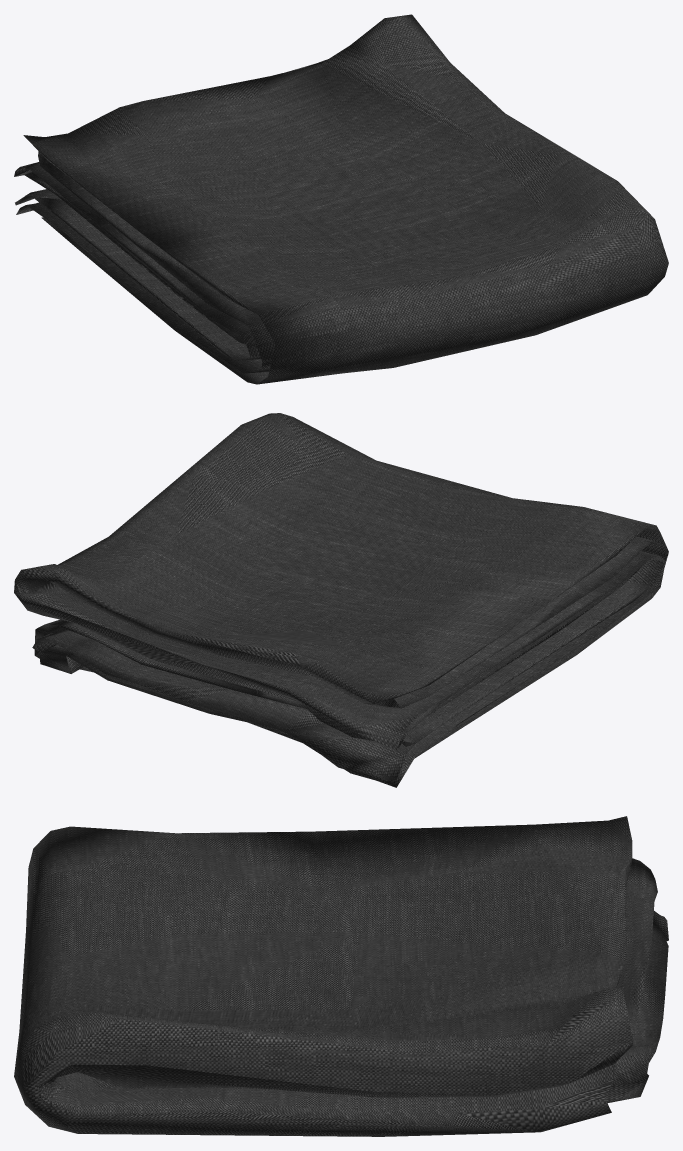
Rendered from Folded clothes 1.fbx.
3 renders of one model, top to bottom at view 1: azimuth 30°, elevation 25°; view 2: azimuth 150°, elevation 25°; view 3: azimuth 270°, elevation 25°, orthographic. The views are drawn at different scales.
Visible parts, largest first — view 1: Folded clothes 1; view 2: Folded clothes 1; view 3: Folded clothes 1.
Part boxes in pixels (bbox=[...]): Folded clothes 1: bbox=[14, 14, 668, 384]; Folded clothes 1: bbox=[14, 413, 668, 787]; Folded clothes 1: bbox=[14, 816, 668, 1136].
Bounding box in the file's own units: 29.11 × 8.49 × 33.52.
Materials: 1 (1 with a texture image).
